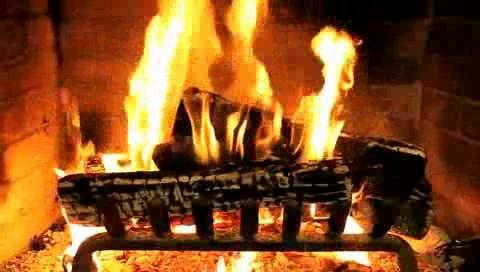fire: (123, 3, 356, 175)
